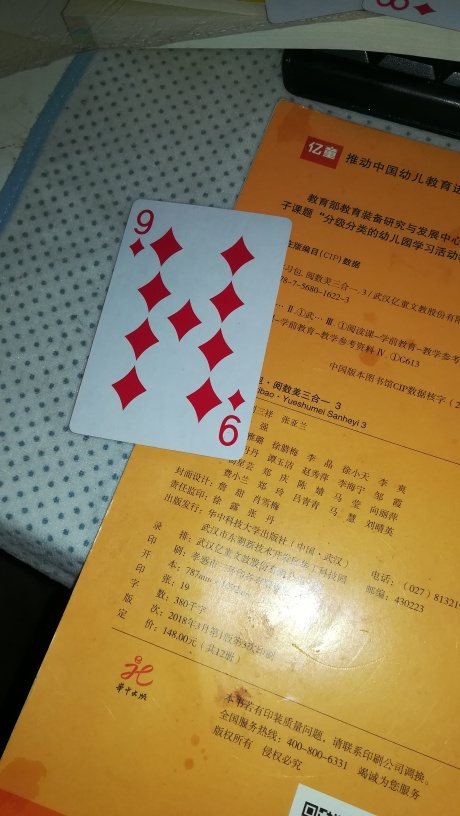fk 9: (67, 196, 290, 467)
